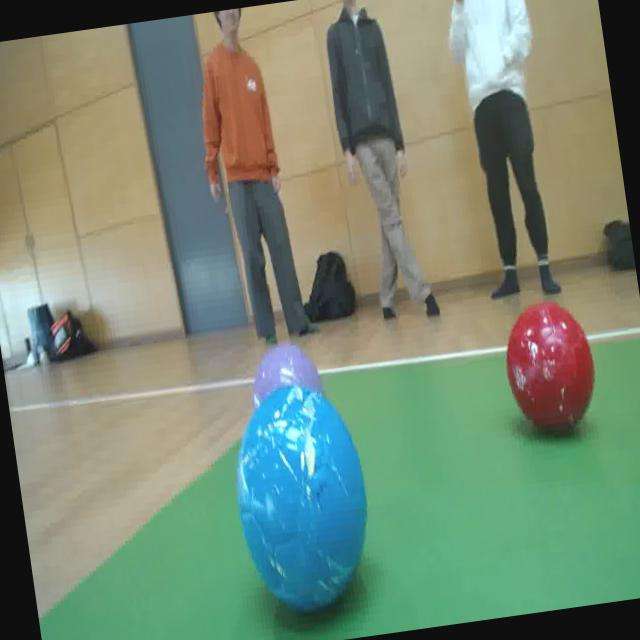blue_ball: (225, 374, 383, 624)
purple_ball: (245, 341, 328, 418)
red_ball: (498, 294, 602, 433)
